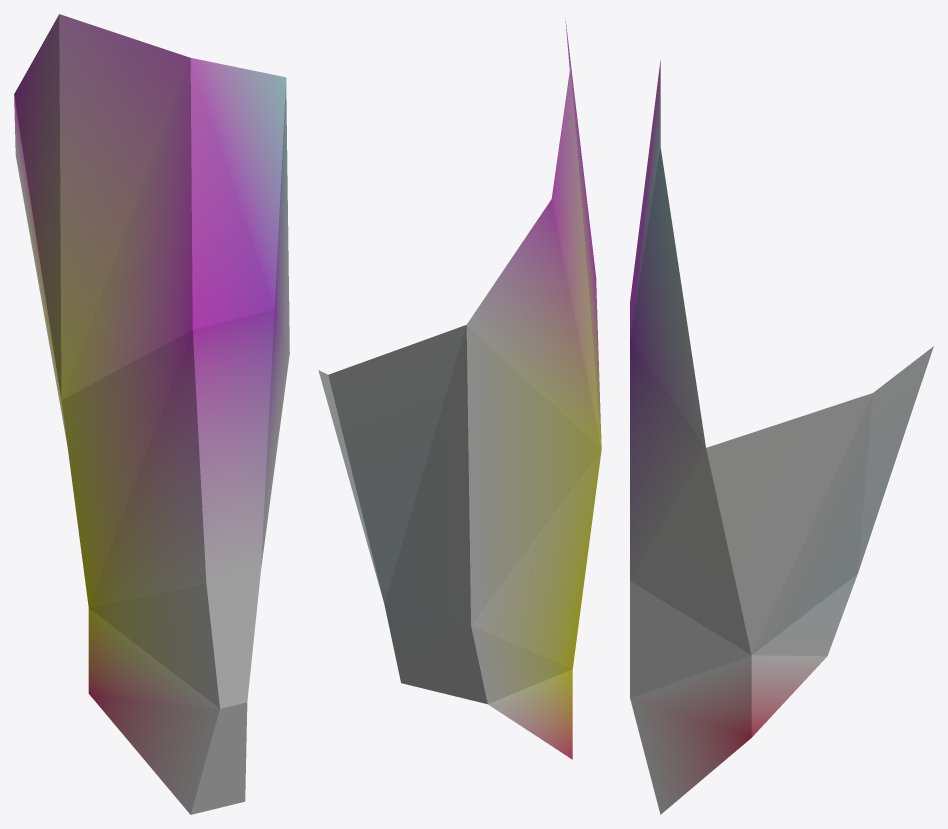
3 renders of one model, left to right at view 1: azimuth 30°, elevation 25°; view 2: azimuth 150°, elevation 25°; view 3: azimuth 270°, elevation 25°, orthographic. The views are drawn at different scales.
Visible parts, largest first — view 1: model_117E; view 2: model_117E; view 3: model_117E.
Part boxes in pixels (x1=…): model_117E: x1=14, y1=14, x2=289, y2=814; model_117E: x1=318, y1=15, x2=601, y2=759; model_117E: x1=630, y1=60, x2=933, y2=814.
Size of the model in its own units: 15 by 54 by 20.
